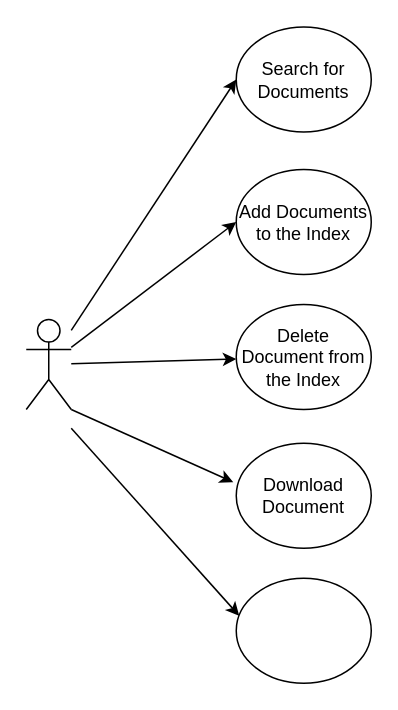
Some shapes in this 398 by 710 pixel diagram are drawn without their labels. The box of each missing label's shape, as (x1, y1, x2, y2) in pixels:
Get Status: (235, 577, 371, 683)
User: (25, 318, 71, 410)
